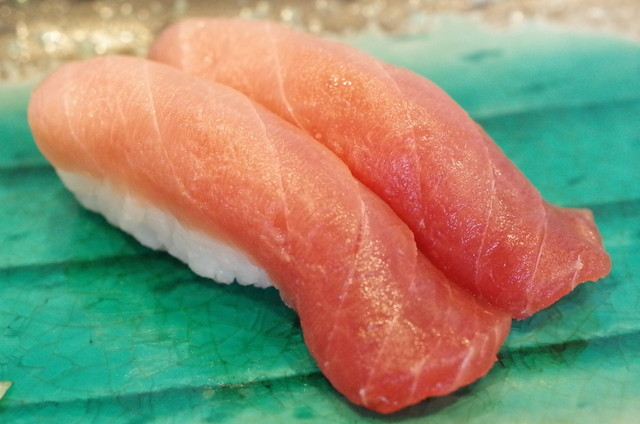medium_fatty_tuna: (27, 55, 511, 419), (150, 15, 614, 326)
